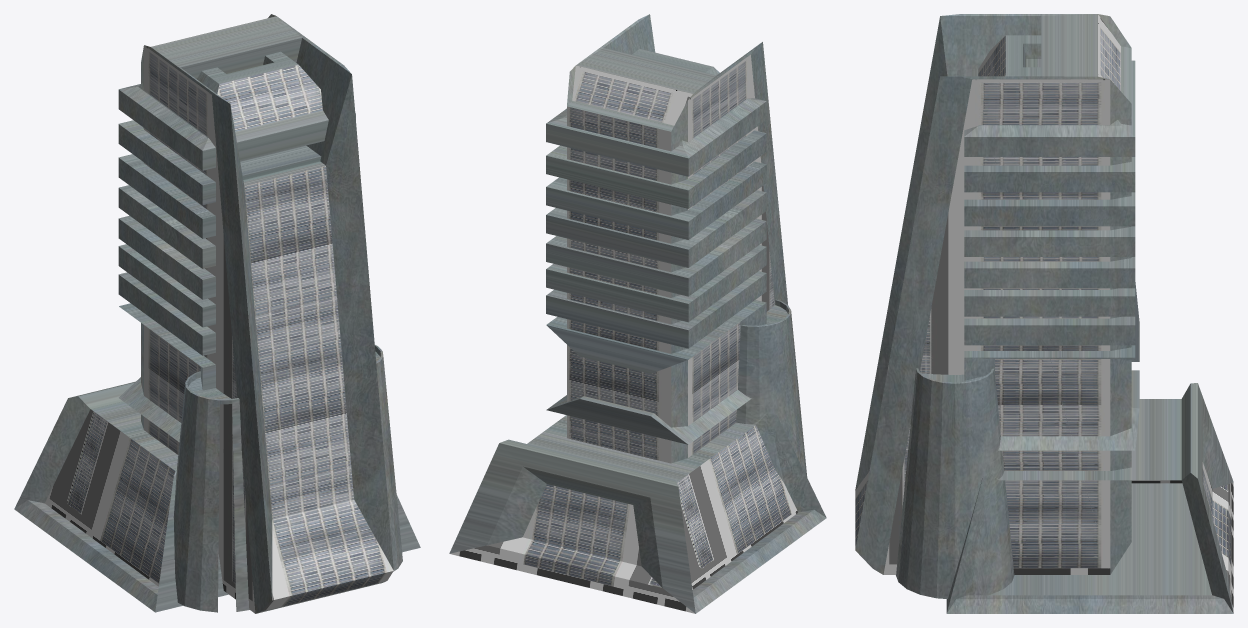
The model's file is Building05.FBX.
The picture shows the model from 3 angles, left to right: view 1: azimuth 30°, elevation 25°; view 2: azimuth 150°, elevation 25°; view 3: azimuth 270°, elevation 25°; orthographic projection. The views are drawn at different scales.
Visible parts, largest first — view 1: polySurface1879; view 2: polySurface1879; view 3: polySurface1879.
Boxes of the visible parts, x1=… form: polySurface1879: x1=14, y1=14, x2=420, y2=613; polySurface1879: x1=449, y1=14, x2=826, y2=613; polySurface1879: x1=855, y1=14, x2=1233, y2=613.
Bounding box in the file's own units: 244 × 435 × 297.
Materials: 2 (2 with a texture image).
